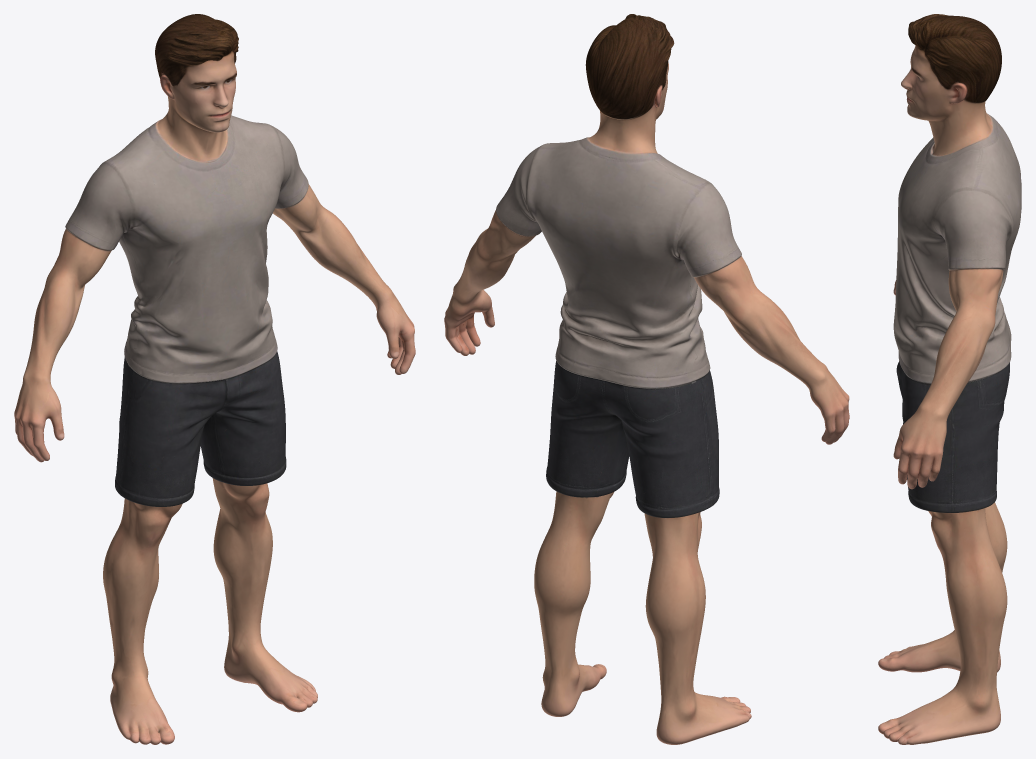
File: human-real.glb
3 renders of one model, left to right at view 1: azimuth 30°, elevation 25°; view 2: azimuth 150°, elevation 25°; view 3: azimuth 270°, elevation 25°, orthographic.
Parts seen in each view (by area): view 1: man-base-character; view 2: man-base-character; view 3: man-base-character.
Part boxes in pixels (x1,y1,x2,y2): man-base-character: [14, 14, 415, 744]; man-base-character: [444, 14, 849, 744]; man-base-character: [878, 14, 1021, 744].
Bounding box in the file's own units: 1.08 × 1.8 × 0.3418.
1 material, 1 textured.
